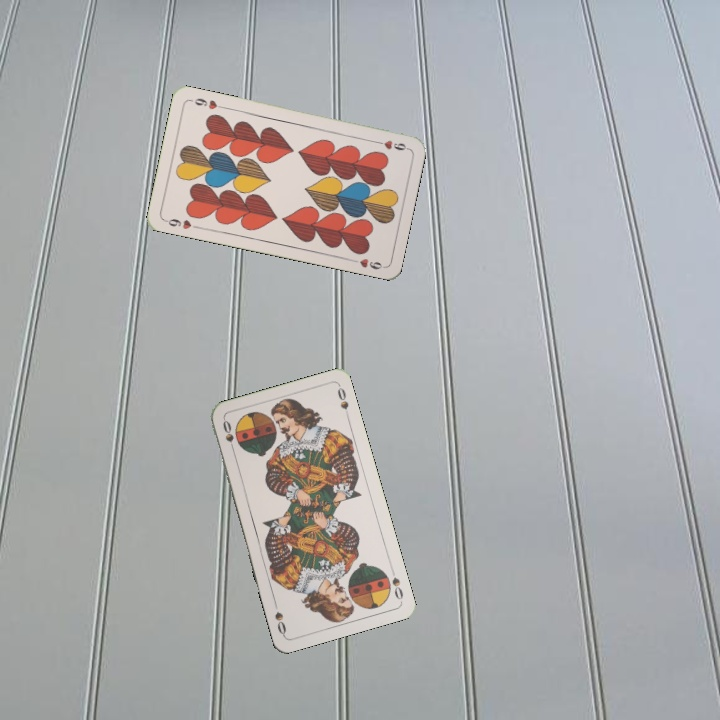H9: (161, 214, 201, 232), (370, 136, 411, 153)
SO: (387, 564, 406, 602), (219, 416, 237, 456)
